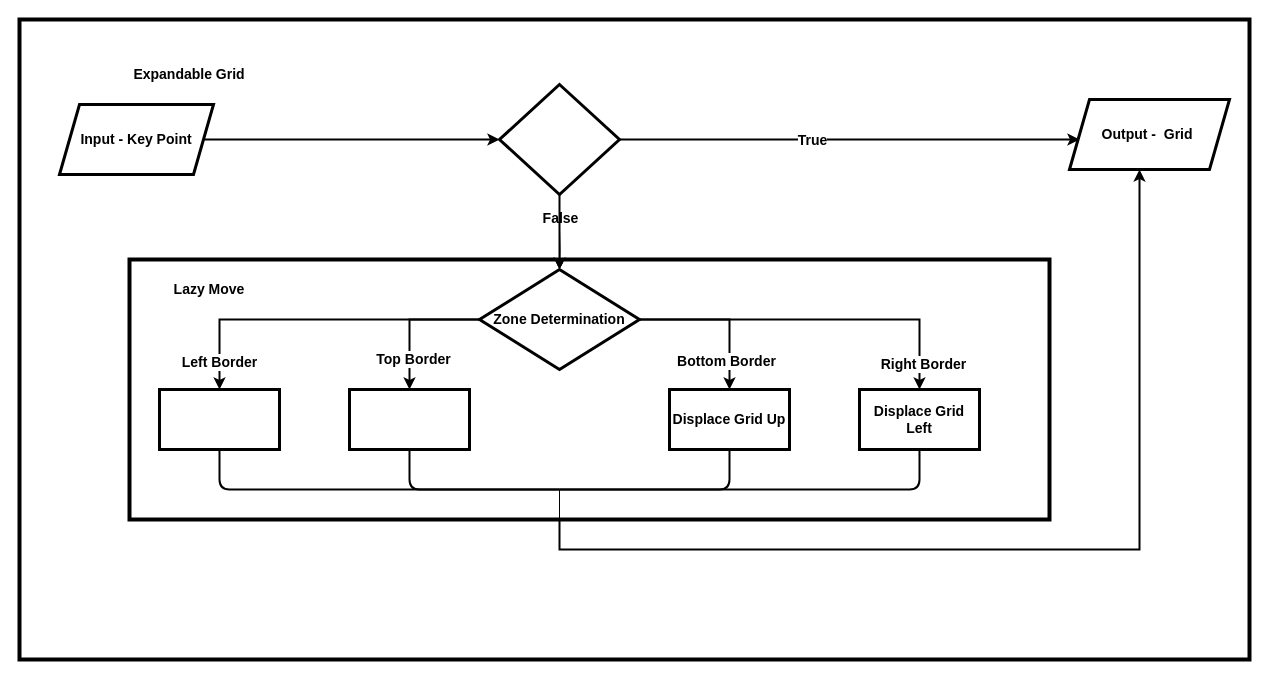
Some shapes in this 1268 by 678 pixel diagram are drawn without their labels. Each missing label, with the centre of its shape:
Displace Grid Down: the point at 409,419
Displace Grid Right: the point at 219,419
Is Stationary Zone ?: the point at 559,139
